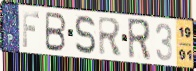3: (155, 22, 173, 62)
B: (44, 11, 67, 53)
F: (21, 10, 41, 49)
R: (126, 17, 152, 63), (97, 16, 124, 58)
S: (74, 14, 97, 56)
